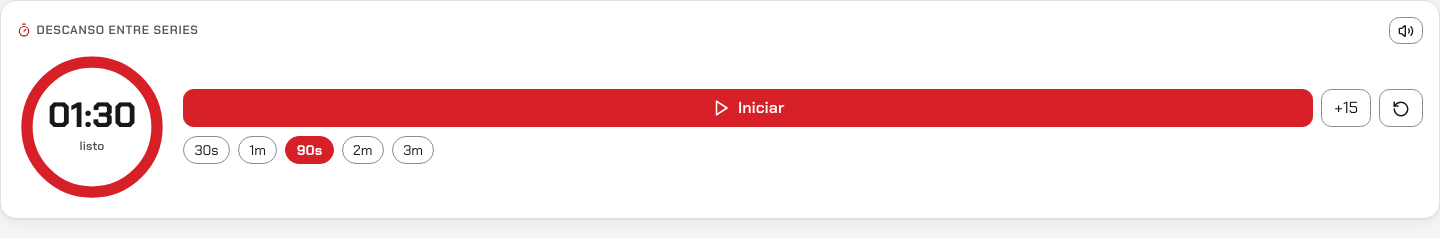
Test: RestTimer: cuenta regresiva › al llegar a cero termina, vibra y queda en "A la serie"
Click the button named "30 segundos" at (206, 150), box [183,136,230,164]
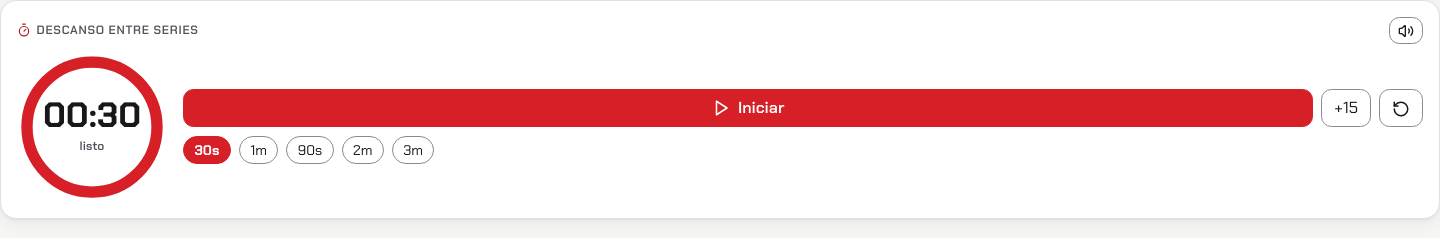
Click the button "Iniciar" at (748, 108), box [183,89,1313,127]
Wait 31000 ms
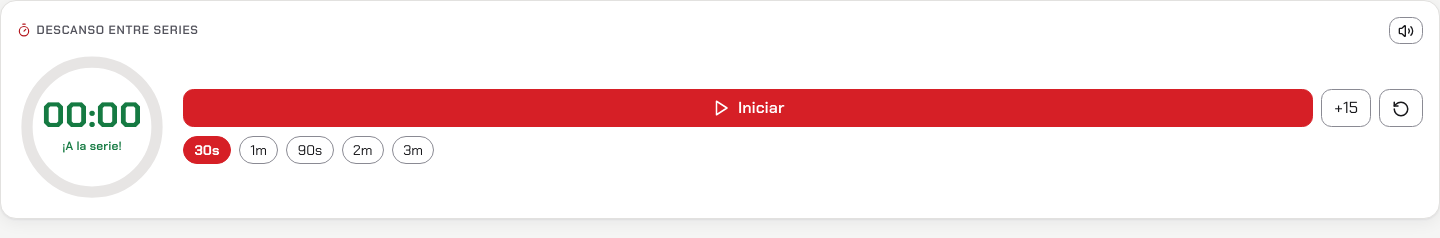
Result: the text with class "timer-caption" reads "¡A la serie!" at [62,138,122,154]
